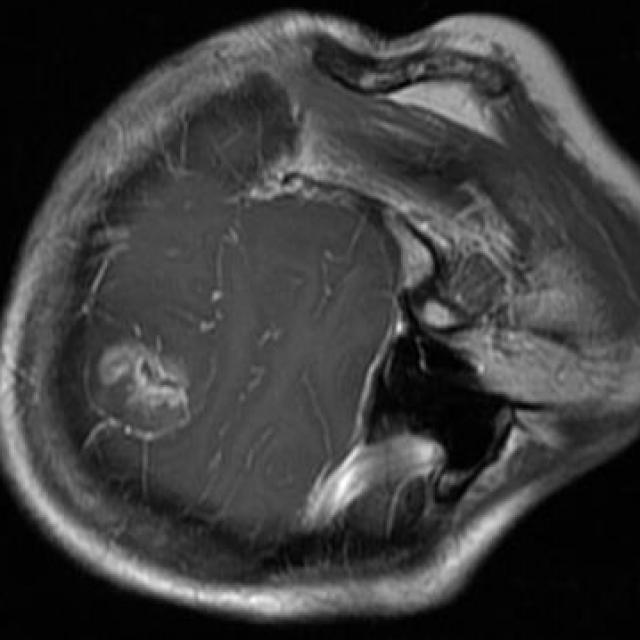glioma: (98, 342, 191, 435)
